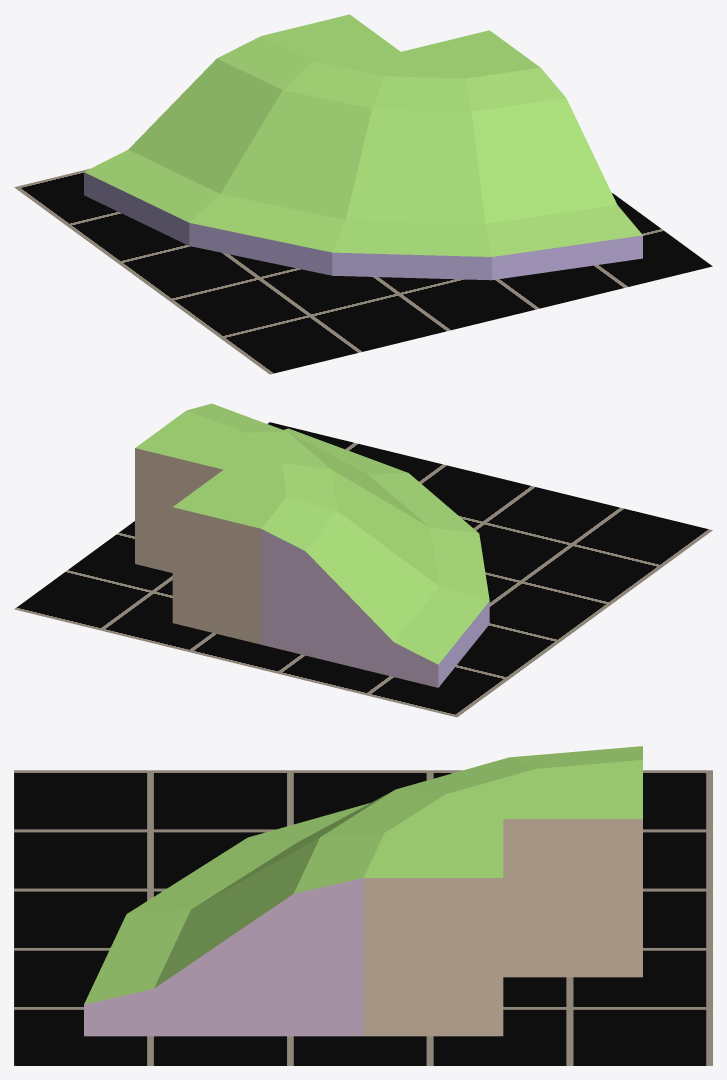
File: Grass_Hill_Sharp_Curve_Outer_4x4.glb
3 renders of one model, top to bottom at view 1: azimuth 30°, elevation 25°; view 2: azimuth 150°, elevation 25°; view 3: azimuth 270°, elevation 25°, orthographic. The views are drawn at different scales.
Visible parts, largest first — view 1: Grass_Hill_Sharp_Curve_Outer_4x4, Floor; view 2: Grass_Hill_Sharp_Curve_Outer_4x4, Floor; view 3: Grass_Hill_Sharp_Curve_Outer_4x4, Floor.
Part boxes in pixels (x1,y1,x2,y2): Grass_Hill_Sharp_Curve_Outer_4x4: (84, 14, 642, 280); Floor: (14, 169, 712, 374); Grass_Hill_Sharp_Curve_Outer_4x4: (135, 403, 489, 687); Floor: (14, 422, 712, 717); Grass_Hill_Sharp_Curve_Outer_4x4: (84, 746, 642, 1036); Floor: (14, 770, 712, 1065).
Size of the model in its own units: 500 by 125 by 500.
6 materials, 1 textured.
